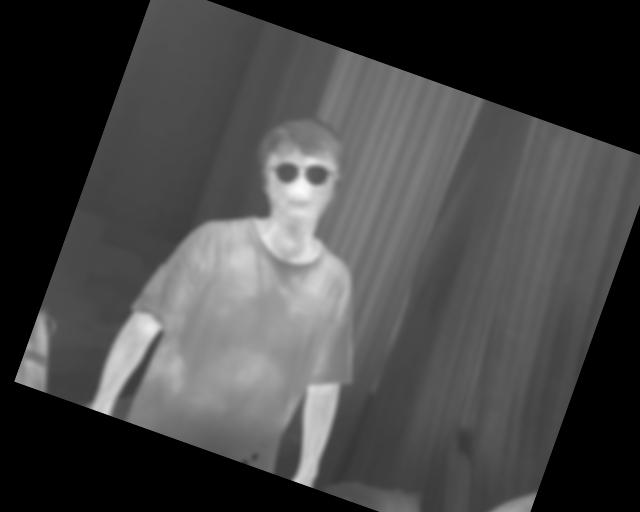face: (237, 101, 359, 238)
